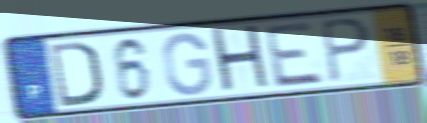6: (111, 36, 154, 101)
D: (47, 39, 104, 109)
E: (262, 20, 328, 90)
G: (160, 30, 214, 98)
H: (208, 22, 274, 97)
P: (318, 16, 374, 86)
